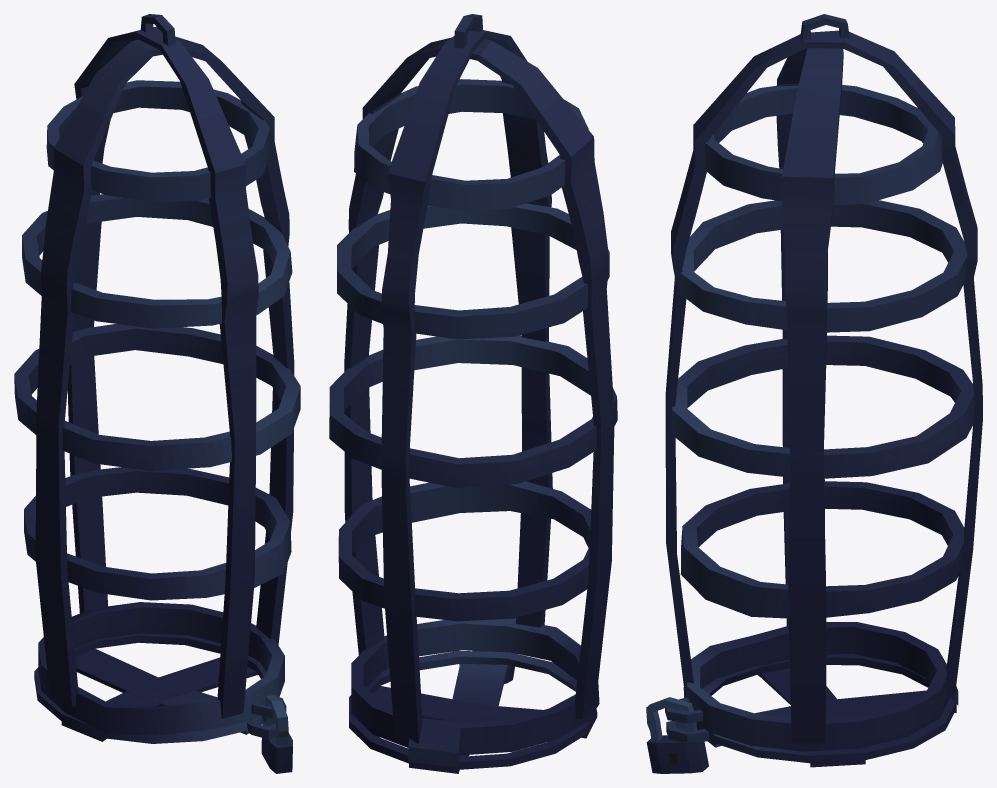
The model's file is Gibbet_Cage2.fbx.
The picture shows the model from 3 angles, left to right: view 1: azimuth 30°, elevation 25°; view 2: azimuth 150°, elevation 25°; view 3: azimuth 270°, elevation 25°; orthographic projection. The views are drawn at different scales.
Visible parts, largest first — view 1: Gibbet_Cage2; view 2: Gibbet_Cage2; view 3: Gibbet_Cage2.
Part boxes in pixels (left/top/right/bottom): Gibbet_Cage2: left=14, top=14, right=300, bottom=773; Gibbet_Cage2: left=329, top=14, right=617, bottom=773; Gibbet_Cage2: left=646, top=14, right=982, bottom=773.
Bounding box in the file's own units: 2.83 × 7.8 × 3.25.
